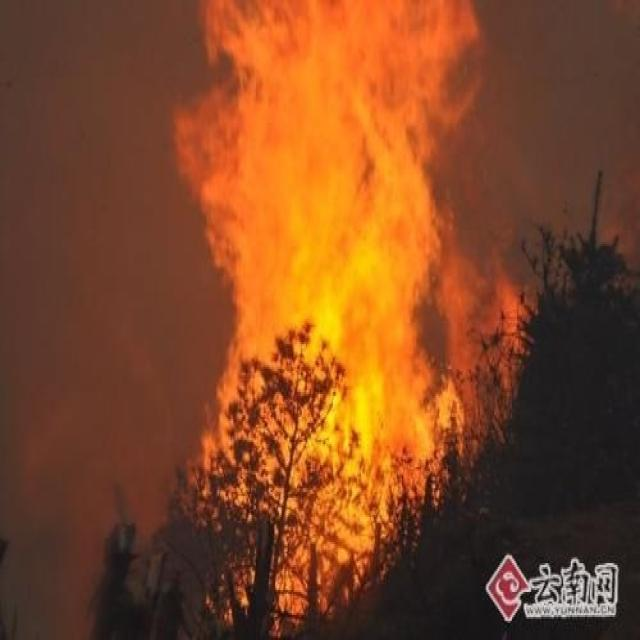Fire: (172, 2, 536, 640)
Smoke: (2, 2, 235, 640), (444, 2, 640, 306)
